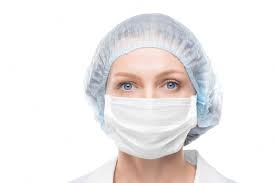with_mask_and_cap: (94, 14, 203, 161)
